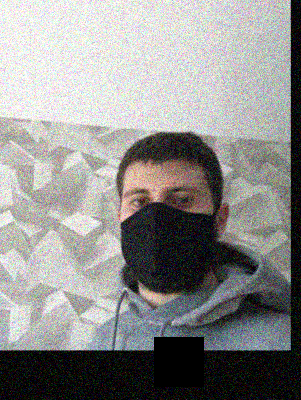with_mask: (120, 174, 216, 296)
